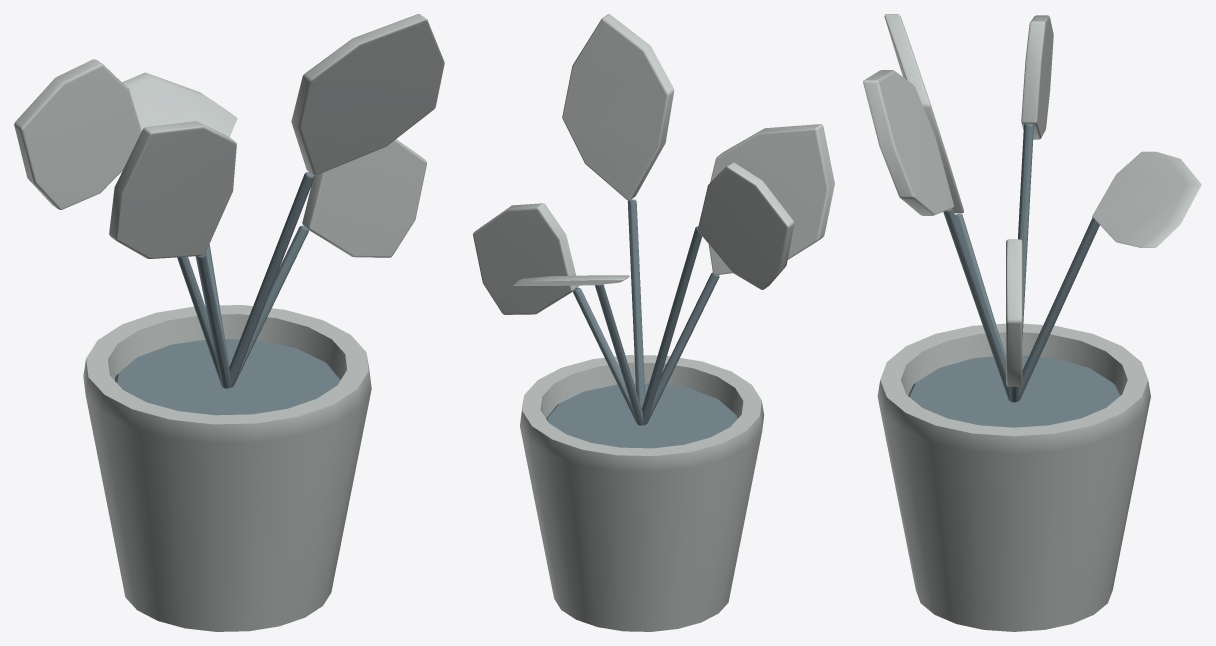
The model's file is plant-small.glb.
3 renders of one model, left to right at view 1: azimuth 30°, elevation 25°; view 2: azimuth 150°, elevation 25°; view 3: azimuth 270°, elevation 25°, orthographic. The views are drawn at different scales.
Parts seen in each view (by area): view 1: terracotta_pot, leaf_3, leaf_1, leaf_4, terracotta_pot_soil, leaf_0, leaf_2, leaf_stem_3, leaf_stem_1, leaf_stem_0, leaf_stem_4; view 2: terracotta_pot, leaf_3, leaf_1, leaf_0, terracotta_pot_soil, leaf_4, leaf_stem_3, leaf_stem_4, leaf_stem_1, leaf_stem_2, leaf_stem_0, leaf_2; view 3: terracotta_pot, terracotta_pot_soil, leaf_3, leaf_2, leaf_4, leaf_0, leaf_1, leaf_stem_3, leaf_stem_2, leaf_stem_4, leaf_stem_1.
Boxes of the visible parts, left/top/right/bottom form: terracotta_pot: left=83, top=305, right=371, bottom=631; leaf_3: left=291, top=14, right=444, bottom=175; leaf_1: left=109, top=121, right=236, bottom=258; leaf_4: left=14, top=59, right=141, bottom=209; terracotta_pot_soil: left=114, top=339, right=340, bottom=415; leaf_0: left=302, top=139, right=426, bottom=257; leaf_2: left=122, top=72, right=237, bottom=136; leaf_stem_3: left=229, top=172, right=314, bottom=387; leaf_stem_1: left=195, top=253, right=230, bottom=388; leaf_stem_0: left=233, top=225, right=308, bottom=386; leaf_stem_4: left=177, top=256, right=222, bottom=386; terracotta_pot: left=520, top=355, right=764, bottom=631; leaf_3: left=562, top=14, right=674, bottom=200; leaf_1: left=708, top=124, right=834, bottom=275; leaf_0: left=473, top=203, right=578, bottom=314; terracotta_pot_soil: left=546, top=383, right=737, bottom=448; leaf_4: left=697, top=162, right=794, bottom=289; leaf_stem_3: left=627, top=199, right=645, bottom=408; leaf_stem_4: left=642, top=226, right=702, bottom=425; leaf_stem_1: left=646, top=272, right=719, bottom=424; leaf_stem_2: left=595, top=284, right=643, bottom=425; leaf_stem_0: left=573, top=288, right=637, bottom=423; leaf_2: left=512, top=275, right=629, bottom=285; terracotta_pot: left=877, top=323, right=1150, bottom=631; terracotta_pot_soil: left=908, top=355, right=1120, bottom=427; leaf_3: left=863, top=70, right=953, bottom=215; leaf_2: left=1092, top=151, right=1201, bottom=247; leaf_4: left=1021, top=15, right=1053, bottom=139; leaf_0: left=1006, top=239, right=1022, bottom=386; leaf_1: left=884, top=14, right=963, bottom=213; leaf_stem_3: left=943, top=208, right=1009, bottom=400; leaf_stem_2: left=1019, top=217, right=1099, bottom=400; leaf_stem_4: left=1018, top=123, right=1033, bottom=340; leaf_stem_1: left=955, top=213, right=1005, bottom=360.
Size of the model in its own units: 0.3102 by 0.4555 by 0.2478.
